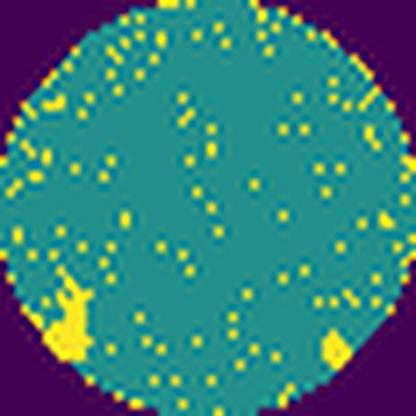Loc: (44, 270, 98, 362), (324, 325, 354, 372)
